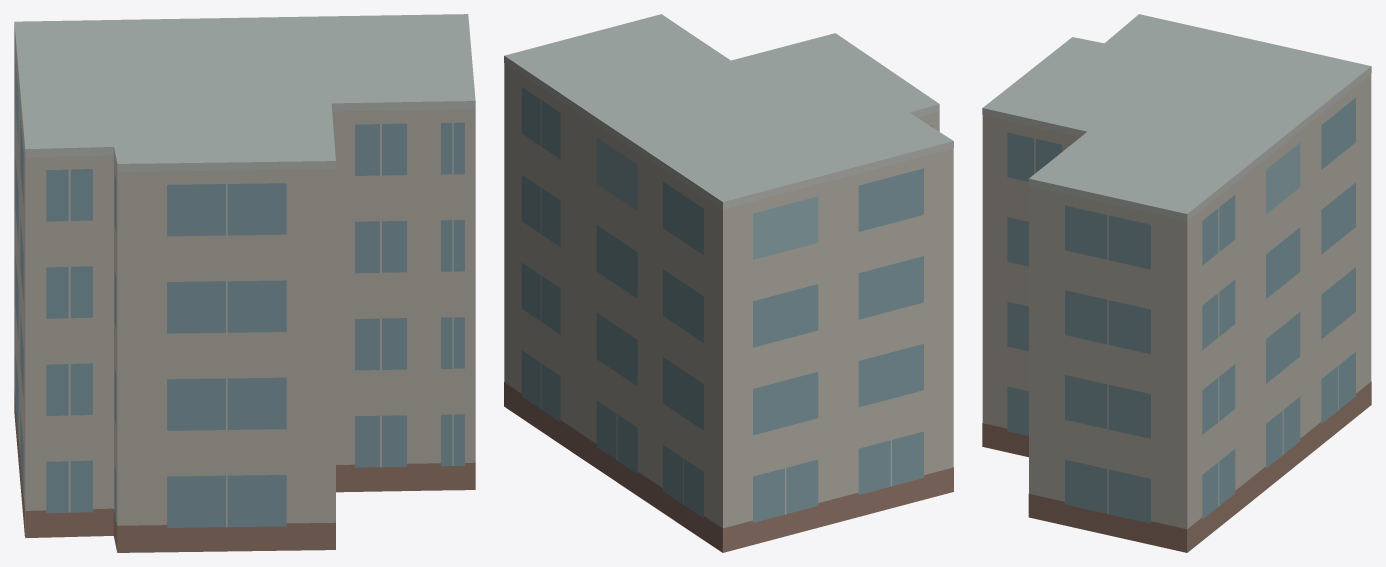
The model's file is survey-upis-32717900.glb.
3 views of the same model, side by side, from view 1: azimuth 30°, elevation 25°; view 2: azimuth 150°, elevation 25°; view 3: azimuth 270°, elevation 25° (orthographic). The views are drawn at different scales.
Visible parts, largest first — view 1: survey-upis-32717900.tmp; view 2: survey-upis-32717900.tmp; view 3: survey-upis-32717900.tmp.
Part boxes in pixels (box(x1,y1,x2,y2)): survey-upis-32717900.tmp: box(14, 14, 475, 552); survey-upis-32717900.tmp: box(504, 14, 953, 552); survey-upis-32717900.tmp: box(982, 14, 1371, 552).
Bounding box in the file's own units: 14.83 × 11.7 × 12.18.
